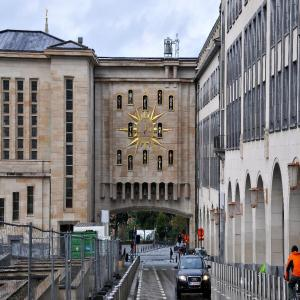Vehicle-registration-plate: (190, 281, 200, 287)
